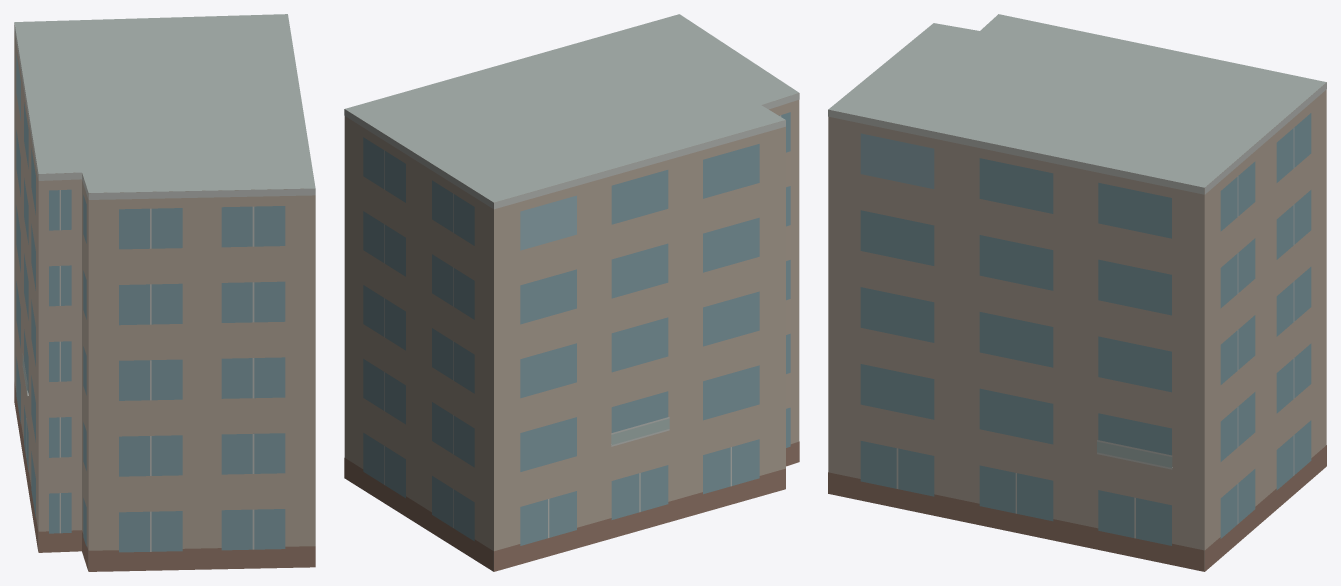
The model's file is survey-upis-32893913.glb.
The picture shows the model from 3 angles, left to right: view 1: azimuth 30°, elevation 25°; view 2: azimuth 150°, elevation 25°; view 3: azimuth 270°, elevation 25°; orthographic projection. The views are drawn at different scales.
Parts seen in each view (by area): view 1: survey-upis-32893913.tmp; view 2: survey-upis-32893913.tmp; view 3: survey-upis-32893913.tmp.
Boxes of the visible parts, left/top/right/bottom form: survey-upis-32893913.tmp: left=14, top=14, right=315, bottom=571; survey-upis-32893913.tmp: left=344, top=14, right=799, bottom=571; survey-upis-32893913.tmp: left=828, top=14, right=1326, bottom=571.
Bounding box in the file's own units: 12.91 × 13.3 × 15.66.
